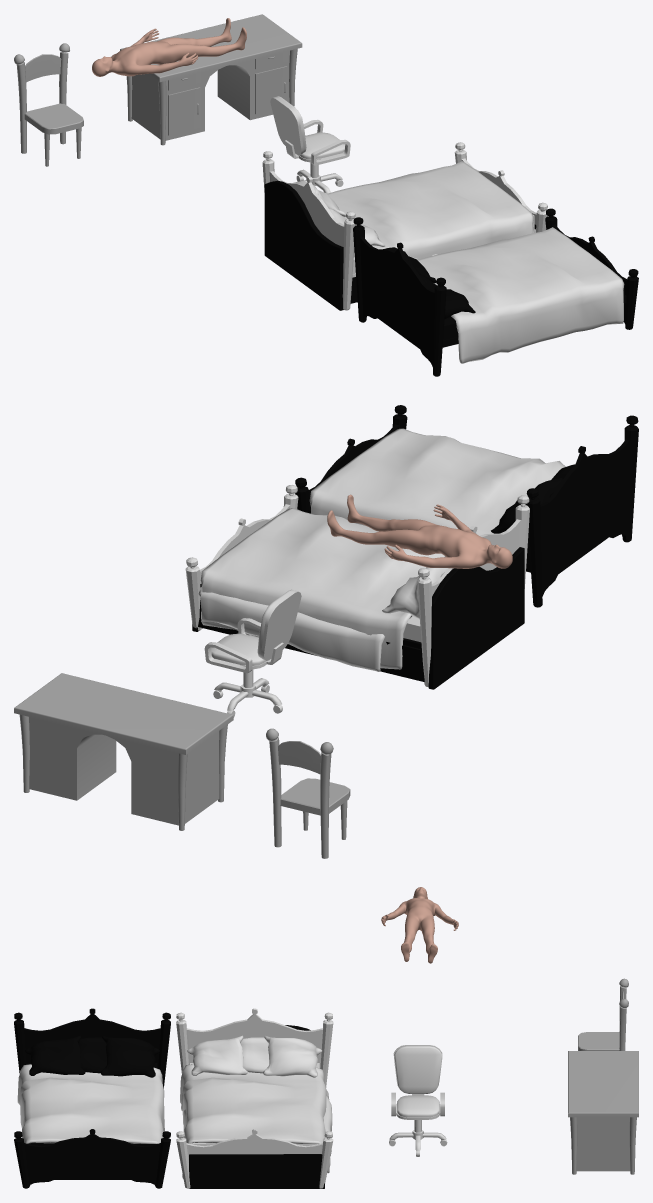
The model's file is interior_modern_chair.fbx.
3 views of the same model, one above another, from view 1: azimuth 30°, elevation 25°; view 2: azimuth 150°, elevation 25°; view 3: azimuth 270°, elevation 25° (orthographic). The views are drawn at different scales.
Visible parts, largest first — view 1: Bed combined, Cube.016, Desk_Cottage.001, Bed2 combined, Player_Body.001, Chair_Cottage.001, Cube.010, Cube.020, Cube.019, Cube.015; view 2: Bed combined, Desk_Cottage.001, Cube.016, Bed2 combined, Player_Body.001, Cube.010, Chair_Cottage.001, Cube.020, Cube.019, Cube.015; view 3: Bed combined, Cube.016, Desk_Cottage.001, Bed2 combined, Cube.010, Cube.015, Cube.020, Cube.019, Player_Body.001, Chair_Cottage.001, Cube.017.
Part boxes in pixels (bbox=[...]): Bed combined: bbox=[353, 208, 638, 376]; Cube.016: bbox=[327, 161, 533, 259]; Desk_Cottage.001: bbox=[120, 14, 302, 145]; Bed2 combined: bbox=[264, 180, 536, 310]; Player_Body.001: bbox=[92, 18, 246, 76]; Chair_Cottage.001: bbox=[14, 43, 83, 166]; Cube.010: bbox=[270, 96, 350, 193]; Cube.020: bbox=[262, 151, 355, 310]; Cube.019: bbox=[454, 142, 547, 232]; Cube.015: bbox=[293, 181, 384, 253]; Bed combined: bbox=[295, 405, 638, 607]; Desk_Cottage.001: bbox=[14, 673, 233, 830]; Cube.016: bbox=[200, 508, 444, 669]; Bed2 combined: bbox=[192, 547, 524, 689]; Player_Body.001: bbox=[327, 494, 512, 568]; Cube.010: bbox=[204, 589, 301, 717]; Chair_Cottage.001: bbox=[266, 728, 350, 858]; Cube.020: bbox=[417, 495, 529, 687]; Cube.019: bbox=[185, 485, 298, 630]; Cube.015: bbox=[382, 556, 447, 618]; Bed combined: bbox=[14, 1008, 170, 1188]; Cube.016: bbox=[180, 1064, 326, 1143]; Desk_Cottage.001: bbox=[568, 1051, 638, 1174]; Bed2 combined: bbox=[181, 1025, 332, 1188]; Cube.010: bbox=[389, 1045, 447, 1156]; Cube.015: bbox=[187, 1035, 322, 1077]; Cube.020: bbox=[176, 1008, 333, 1087]; Cube.019: bbox=[176, 1129, 333, 1188]; Player_Body.001: bbox=[381, 887, 458, 963]; Chair_Cottage.001: bbox=[578, 978, 628, 1050]; Cube.017: bbox=[240, 1037, 269, 1073].
Bounding box in the file's own units: 407 × 229 × 765.
